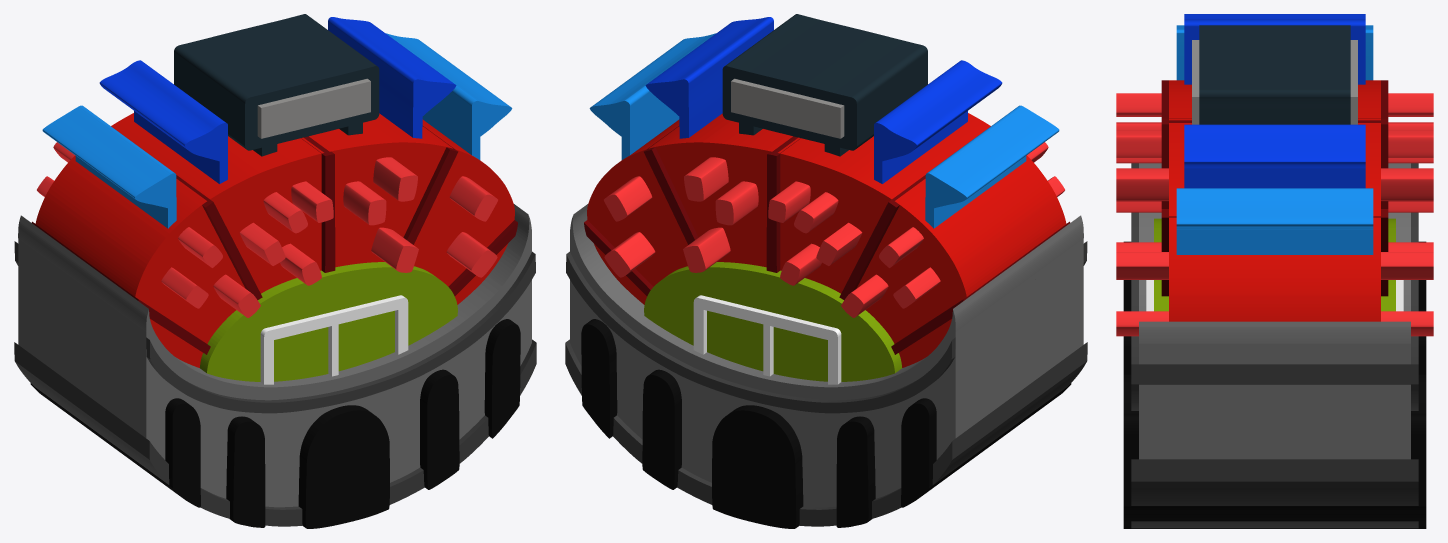
3 renders of one model, left to right at view 1: azimuth 30°, elevation 25°; view 2: azimuth 150°, elevation 25°; view 3: azimuth 270°, elevation 25°, orthographic. The views are drawn at different scales.
Visible parts, largest first — view 1: U+1F3DF_layer04_obj00, U+1F3DF_layer08_obj00, U+1F3DF_layer06_obj00, U+1F3DF_layer00_obj00, U+1F3DF_layer10_obj02, U+1F3DF_layer09_obj00, U+1F3DF_layer02_obj01, U+1F3DF_layer03_obj01, U+1F3DF_layer09_obj01, U+1F3DF_layer02_obj00, U+1F3DF_layer03_obj00, U+1F3DF_layer10_obj01 (+22 smaller); view 2: U+1F3DF_layer04_obj00, U+1F3DF_layer08_obj00, U+1F3DF_layer06_obj00, U+1F3DF_layer00_obj00, U+1F3DF_layer10_obj02, U+1F3DF_layer09_obj00, U+1F3DF_layer02_obj01, U+1F3DF_layer03_obj01, U+1F3DF_layer09_obj01, U+1F3DF_layer02_obj00, U+1F3DF_layer03_obj00, U+1F3DF_layer10_obj01 (+22 smaller); view 3: U+1F3DF_layer08_obj00, U+1F3DF_layer04_obj00, U+1F3DF_layer09_obj00, U+1F3DF_layer00_obj00, U+1F3DF_layer03_obj00, U+1F3DF_layer02_obj00, U+1F3DF_layer09_obj01, U+1F3DF_layer10_obj03, U+1F3DF_layer11_obj03, U+1F3DF_layer02_obj01, U+1F3DF_layer11_obj08, U+1F3DF_layer11_obj11 (+17 smaller).
Part boxes in pixels (bbox=[...]): U+1F3DF_layer04_obj00: bbox=[35, 113, 514, 367]; U+1F3DF_layer08_obj00: bbox=[18, 204, 531, 507]; U+1F3DF_layer06_obj00: bbox=[200, 262, 457, 381]; U+1F3DF_layer00_obj00: bbox=[174, 14, 379, 150]; U+1F3DF_layer10_obj02: bbox=[298, 405, 389, 528]; U+1F3DF_layer09_obj00: bbox=[14, 339, 536, 526]; U+1F3DF_layer02_obj01: bbox=[99, 60, 227, 183]; U+1F3DF_layer03_obj01: bbox=[42, 105, 176, 228]; U+1F3DF_layer09_obj01: bbox=[14, 241, 535, 413]; U+1F3DF_layer02_obj00: bbox=[328, 17, 456, 138]; U+1F3DF_layer03_obj00: bbox=[386, 33, 512, 159]; U+1F3DF_layer10_obj01: bbox=[420, 369, 459, 489]; U+1F3DF_layer04_obj00: bbox=[587, 113, 1066, 367]; U+1F3DF_layer08_obj00: bbox=[570, 204, 1083, 507]; U+1F3DF_layer06_obj00: bbox=[644, 262, 901, 381]; U+1F3DF_layer00_obj00: bbox=[722, 14, 927, 150]; U+1F3DF_layer10_obj02: bbox=[712, 405, 803, 528]; U+1F3DF_layer09_obj00: bbox=[565, 339, 1087, 526]; U+1F3DF_layer02_obj01: bbox=[874, 60, 1002, 183]; U+1F3DF_layer03_obj01: bbox=[925, 105, 1059, 228]; U+1F3DF_layer09_obj01: bbox=[566, 241, 1087, 413]; U+1F3DF_layer02_obj00: bbox=[645, 17, 773, 138]; U+1F3DF_layer03_obj00: bbox=[589, 33, 715, 159]; U+1F3DF_layer10_obj01: bbox=[642, 369, 681, 489]; U+1F3DF_layer08_obj00: bbox=[1139, 163, 1410, 459]; U+1F3DF_layer04_obj00: bbox=[1169, 80, 1380, 321]; U+1F3DF_layer09_obj00: bbox=[1131, 459, 1418, 528]; U+1F3DF_layer00_obj00: bbox=[1199, 25, 1350, 124]; U+1F3DF_layer03_obj00: bbox=[1176, 188, 1373, 254]; U+1F3DF_layer02_obj00: bbox=[1184, 124, 1365, 188]; U+1F3DF_layer09_obj01: bbox=[1131, 163, 1418, 410]; U+1F3DF_layer10_obj03: bbox=[1123, 413, 1426, 521]; U+1F3DF_layer11_obj03: bbox=[1116, 168, 1433, 200]; U+1F3DF_layer02_obj01: bbox=[1184, 14, 1365, 84]; U+1F3DF_layer11_obj08: bbox=[1116, 252, 1433, 279]; U+1F3DF_layer11_obj11: bbox=[1116, 130, 1433, 157].
Size of the model in its own units: 0.3141 by 0.3217 by 0.21.
